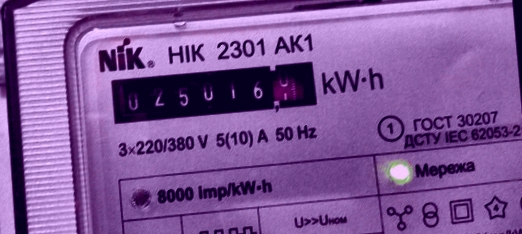0: (199, 78, 215, 102), (124, 89, 139, 112), (275, 67, 288, 88)
1: (224, 75, 237, 101), (279, 90, 288, 101)
2: (150, 83, 165, 107)
5: (175, 84, 188, 106)
6: (248, 76, 263, 102)
screen: (99, 51, 326, 130)
